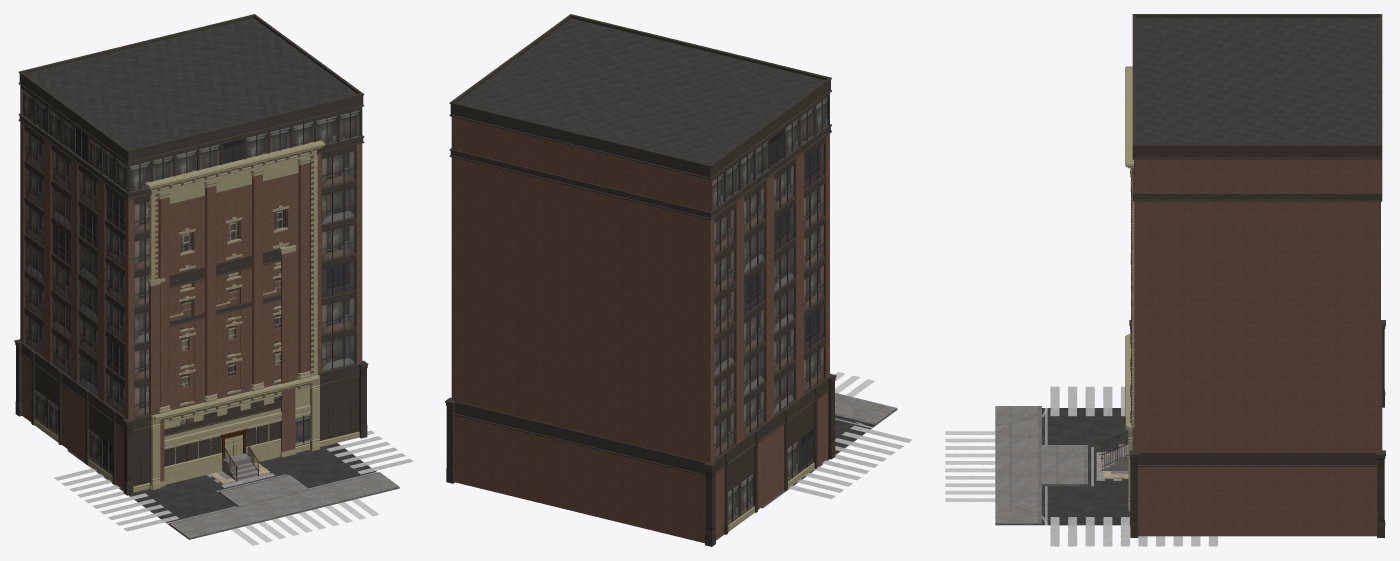
File: city.glb
3 views of the same model, side by side, from view 1: azimuth 30°, elevation 25°; view 2: azimuth 150°, elevation 25°; view 3: azimuth 270°, elevation 25° (orthographic). The views are drawn at different scales.
Parts seen in each view (by area): view 1: Building_Large_2, Building_Medium_2.001, Building_Small_1, Street_TIntersection, Street_4WayIntersection, Street_2Lane, Street_4Lane; view 2: Building_Large_2, Street_4WayIntersection, Street_TIntersection; view 3: Building_Large_2, Street_4WayIntersection, Street_TIntersection, Building_Medium_2.001, Street_2Lane, Street_4Lane.
Part boxes in pixels (x1,y1,x2,y2): Building_Large_2: (14,14,368,495); Building_Medium_2.001: (145,140,325,490); Building_Small_1: (148,245,296,489); Street_TIntersection: (55,431,412,539); Street_4WayIntersection: (54,430,413,545); Street_2Lane: (216,474,308,506); Street_4Lane: (197,460,329,522); Building_Large_2: (445,14,836,546); Street_4WayIntersection: (761,370,911,508); Street_TIntersection: (789,393,910,498); Building_Large_2: (1129,14,1385,537); Street_4WayIntersection: (945,386,1217,546); Street_TIntersection: (995,387,1217,546); Building_Medium_2.001: (1125,66,1134,511); Street_2Lane: (1041,445,1093,486); Street_4Lane: (1088,447,1128,486).
Bounding box in the file's own units: 24.67 × 28.2 × 28.66.
13 materials, 12 textured.
